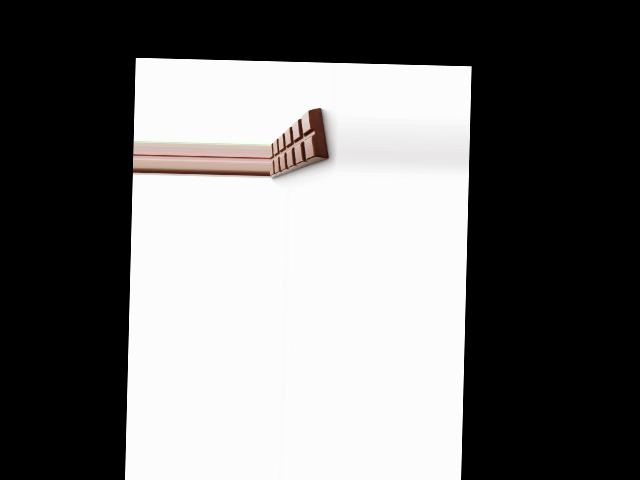chocolate: (270, 106, 331, 184)
